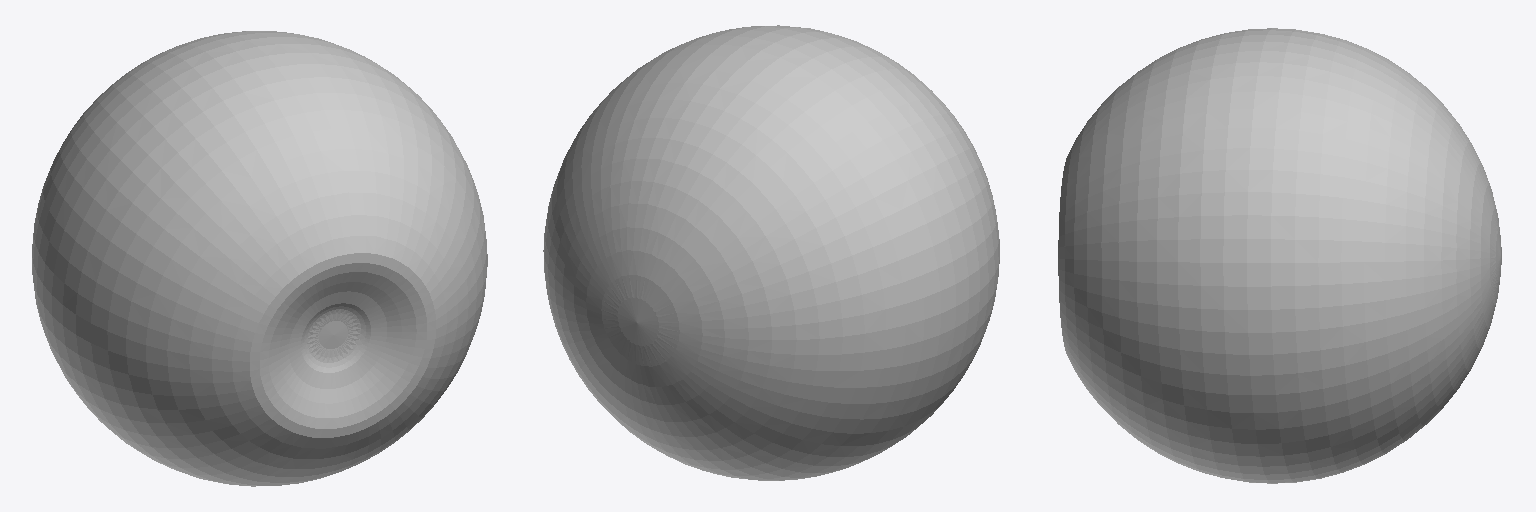
The model's file is Victor_rightEyeInner.obj.
3 views of the same model, side by side, from view 1: azimuth 30°, elevation 25°; view 2: azimuth 150°, elevation 25°; view 3: azimuth 270°, elevation 25° (orthographic).
Parts seen in each view (by area): view 1: Victor_rightEyeInner Victor_Eyes def:geo FTI_Victor; view 2: Victor_rightEyeInner Victor_Eyes def:geo FTI_Victor; view 3: Victor_rightEyeInner Victor_Eyes def:geo FTI_Victor.
Boxes of the visible parts, x1,y1,x2,y2 form: Victor_rightEyeInner Victor_Eyes def:geo FTI_Victor: [32, 31, 487, 486]; Victor_rightEyeInner Victor_Eyes def:geo FTI_Victor: [543, 25, 999, 480]; Victor_rightEyeInner Victor_Eyes def:geo FTI_Victor: [1058, 28, 1501, 483].
Bounding box in the file's own units: 0.3906 × 0.3901 × 0.38.